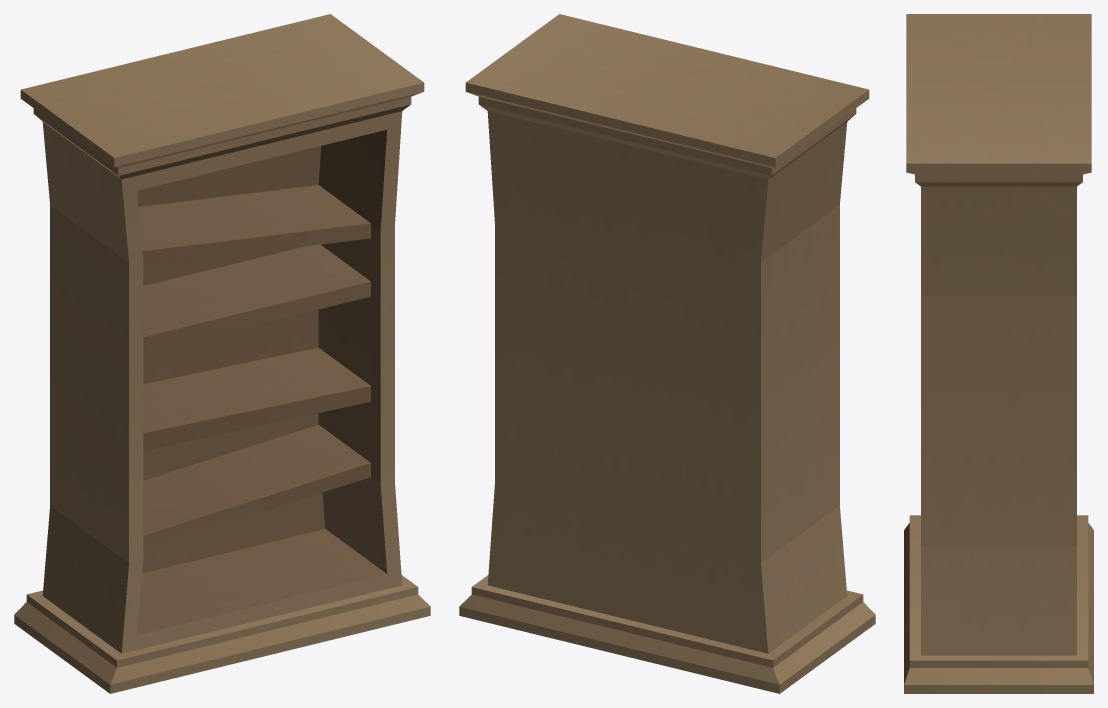
Rendered from bookshelf_1b.dae.
3 views of the same model, side by side, from view 1: azimuth 30°, elevation 25°; view 2: azimuth 150°, elevation 25°; view 3: azimuth 270°, elevation 25° (orthographic).
Visible parts, largest first — view 1: bookshelf_1b; view 2: bookshelf_1b; view 3: bookshelf_1b.
Part boxes in pixels (x1,y1,x2,y2): bookshelf_1b: [14, 14, 430, 693]; bookshelf_1b: [459, 14, 875, 693]; bookshelf_1b: [904, 14, 1093, 693].
Size of the model in its own units: 1.1 by 0.5691 by 1.75.
